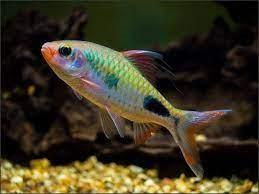Black Spotted Barb: (17, 38, 249, 181)
